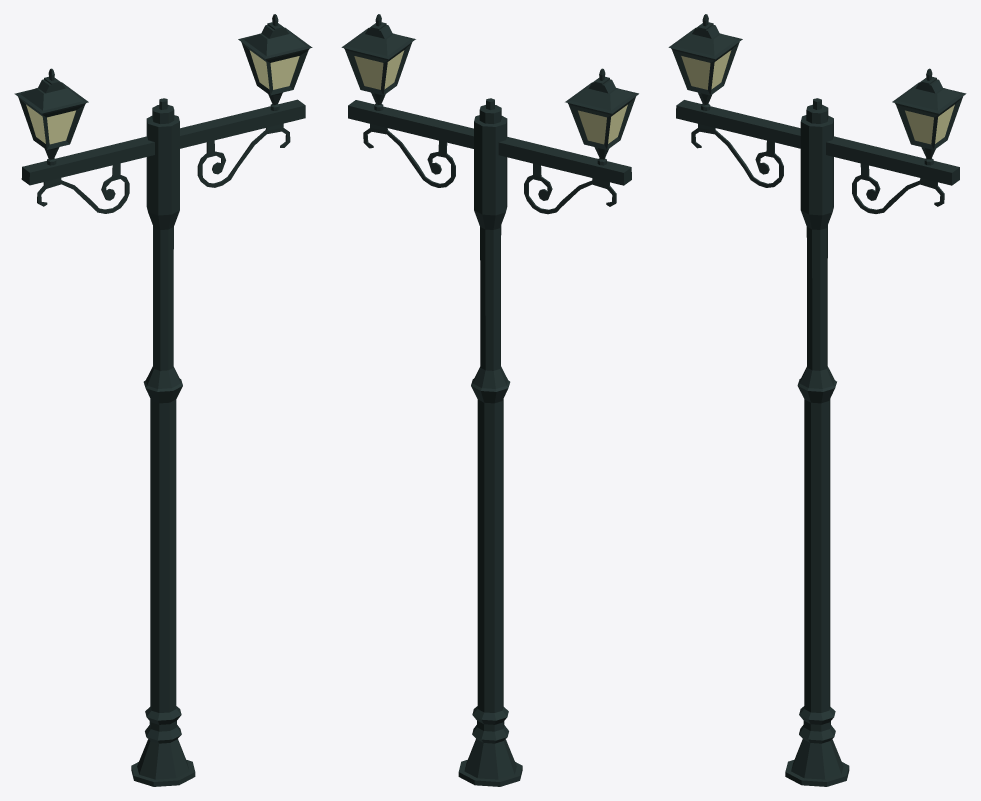
Rendered from Lamp_2.fbx.
3 renders of one model, left to right at view 1: azimuth 30°, elevation 25°; view 2: azimuth 150°, elevation 25°; view 3: azimuth 330°, elevation 25°, orthographic.
Parts seen in each view (by area): view 1: Lamp_2; view 2: Lamp_2; view 3: Lamp_2.
Part boxes in pixels (x1,y1,x2,y2): Lamp_2: (14, 14, 312, 786); Lamp_2: (341, 14, 638, 786); Lamp_2: (668, 14, 966, 786).
Bounding box in the file's own units: 108 × 274 × 21.49.
